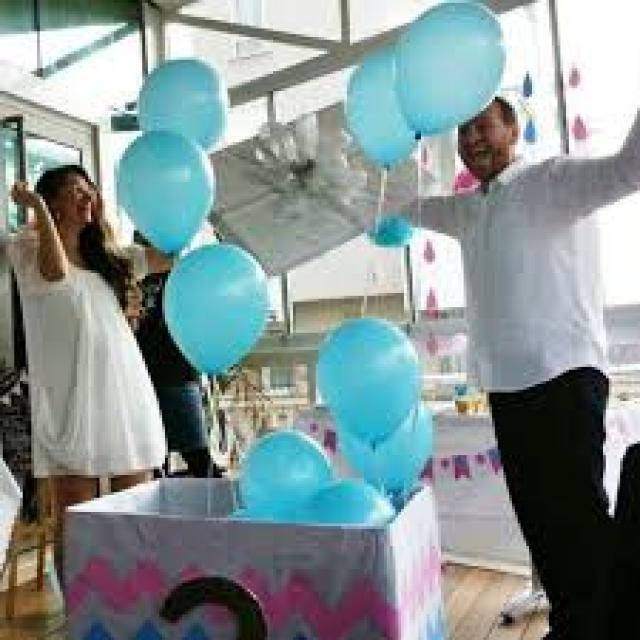balloon: (398, 0, 506, 134), (166, 242, 265, 372), (112, 131, 222, 247), (320, 311, 412, 444), (344, 46, 432, 172), (136, 59, 235, 157), (340, 398, 430, 488), (229, 428, 326, 506), (314, 476, 396, 539)
